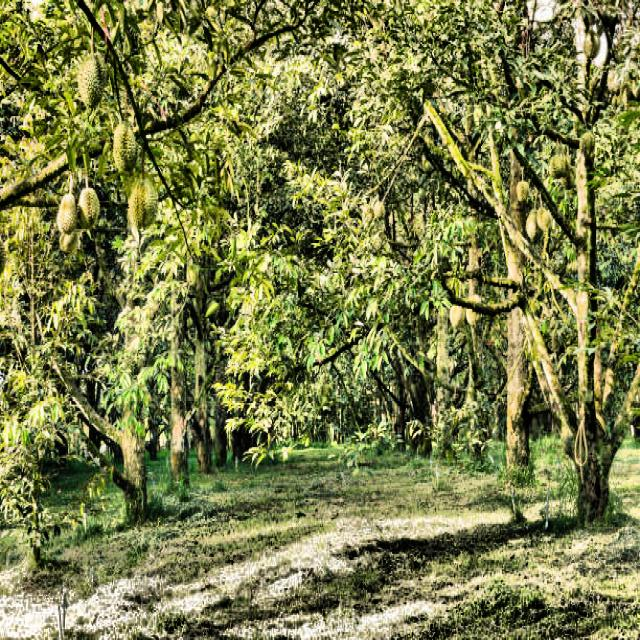arvore: (560, 152, 624, 536), (491, 151, 543, 486), (107, 195, 158, 526), (158, 208, 202, 527), (452, 217, 496, 478)
